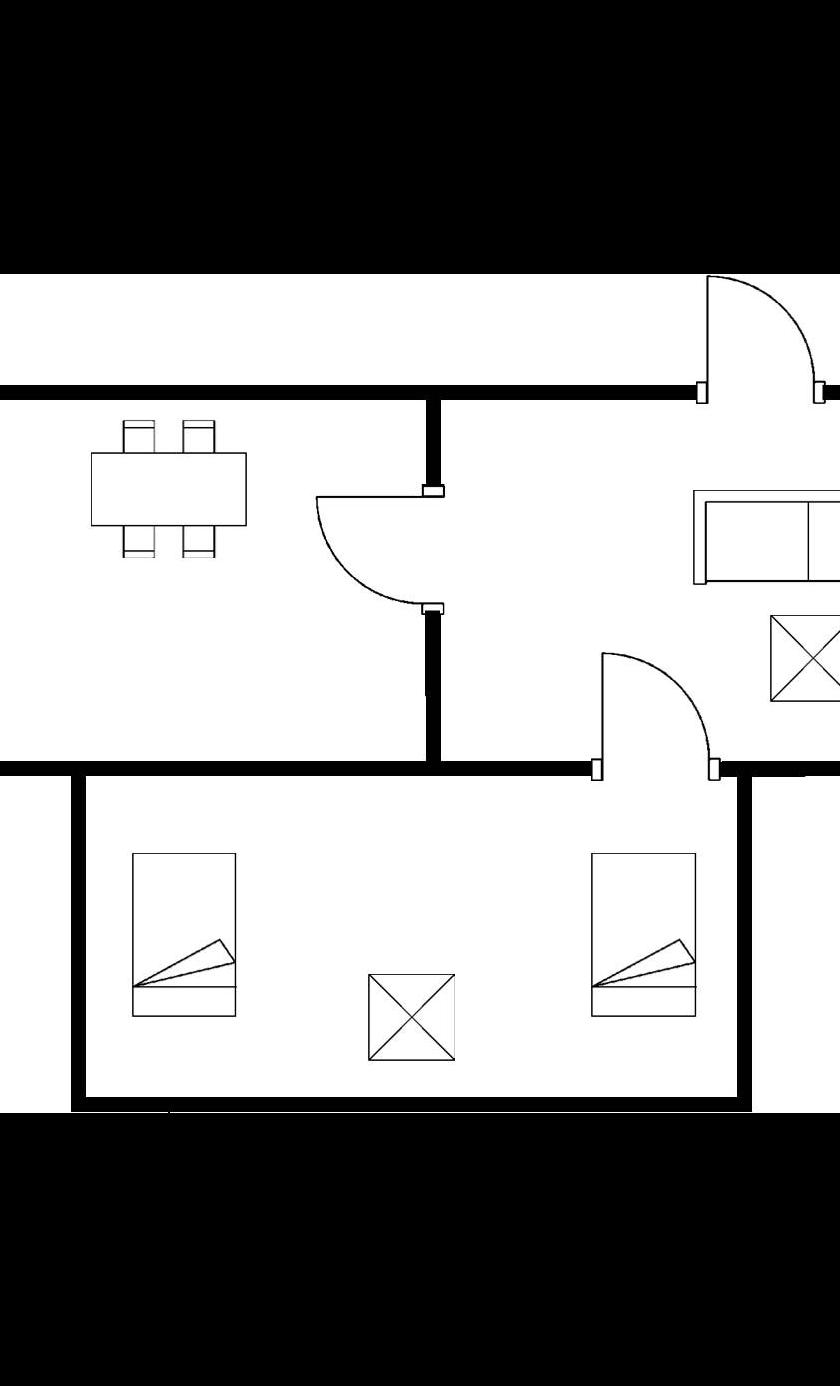bed: (121, 840, 248, 1026), (582, 840, 703, 1025)
dining_table: (83, 411, 252, 565)
sofa: (683, 479, 840, 591)
